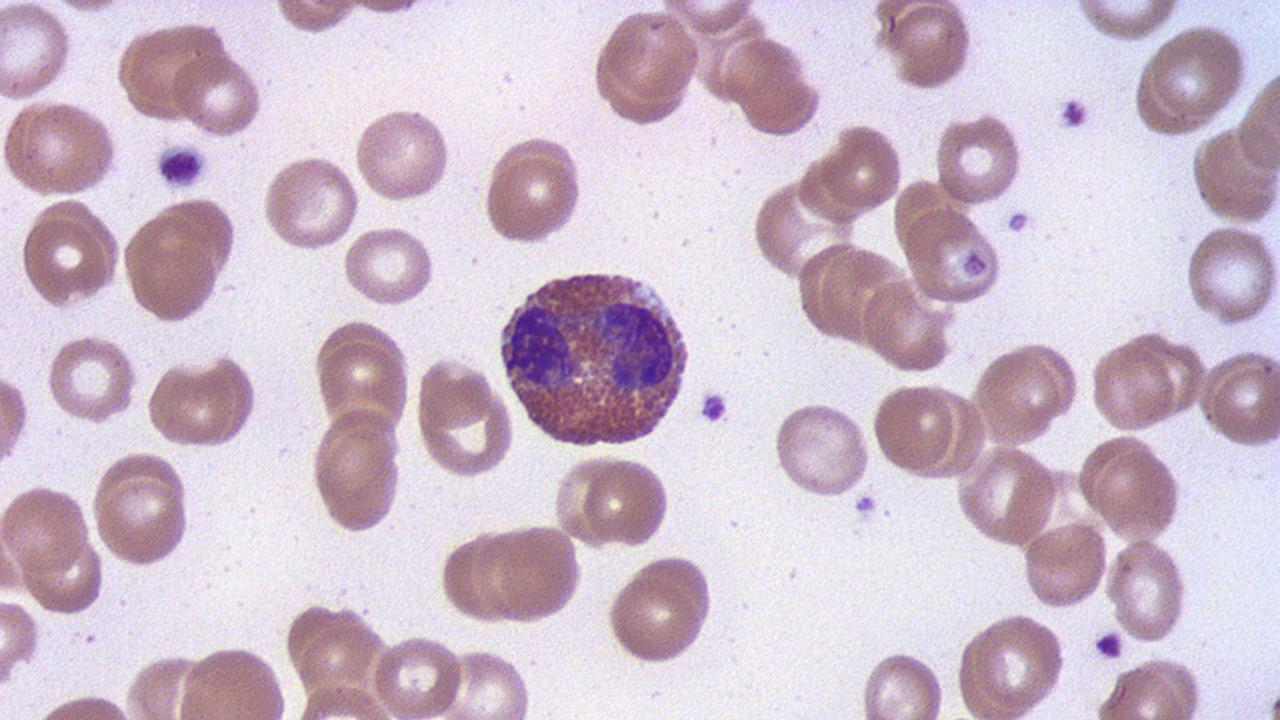Platelets: (151, 139, 212, 190), (1056, 93, 1092, 134), (697, 387, 730, 426), (1091, 626, 1123, 664), (1003, 208, 1039, 236), (852, 492, 882, 520)
RBC: (119, 192, 240, 326), (604, 552, 714, 668), (952, 610, 1071, 716), (412, 357, 514, 480), (16, 197, 123, 314), (88, 450, 192, 570), (310, 406, 406, 534), (0, 98, 121, 199), (480, 134, 587, 248), (750, 172, 858, 283), (117, 19, 230, 125), (315, 320, 412, 443), (475, 520, 588, 624), (144, 352, 260, 450), (955, 443, 1059, 550), (899, 206, 1007, 306), (1183, 221, 1279, 329), (352, 104, 454, 205), (770, 399, 872, 500), (259, 153, 362, 253), (858, 277, 958, 377), (812, 244, 908, 348), (1103, 537, 1191, 647), (930, 108, 1027, 207), (1150, 24, 1246, 122), (44, 331, 141, 426), (1189, 124, 1279, 226), (604, 8, 702, 100), (0, 480, 91, 578), (1095, 447, 1185, 546), (171, 48, 267, 139), (175, 642, 290, 716), (340, 223, 438, 309), (816, 122, 904, 216), (1089, 338, 1175, 434), (973, 350, 1058, 447), (871, 379, 954, 478), (888, 1, 976, 94), (586, 454, 671, 550), (1022, 518, 1108, 612), (371, 632, 467, 716), (0, 0, 75, 106), (438, 527, 515, 628), (916, 380, 991, 482), (1132, 332, 1210, 422), (552, 451, 624, 546), (443, 644, 535, 718), (719, 35, 809, 110), (1209, 355, 1279, 451), (858, 646, 948, 720), (22, 537, 105, 617), (734, 68, 824, 139), (1010, 339, 1082, 422), (1094, 662, 1194, 719), (1238, 64, 1280, 182), (1073, 1, 1181, 44), (0, 596, 42, 690), (1, 351, 31, 482), (655, 0, 763, 35), (269, 0, 366, 36)
WBC: (494, 262, 698, 454)
